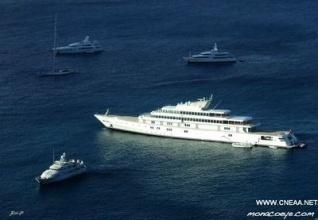yacht: (95, 94, 305, 150), (36, 149, 88, 185), (180, 44, 242, 64), (52, 34, 103, 58)
